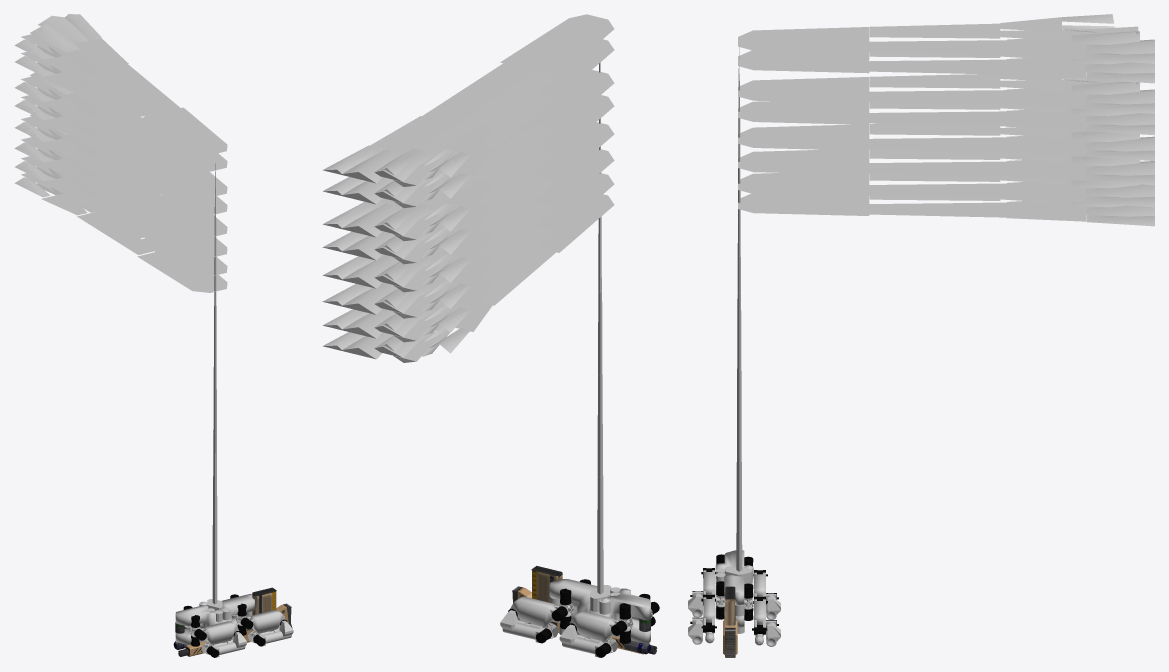
Rendered from ground_drone_mg.FBX.
3 renders of one model, left to right at view 1: azimuth 30°, elevation 25°; view 2: azimuth 150°, elevation 25°; view 3: azimuth 270°, elevation 25°, orthographic. The views are drawn at different scales.
Visible parts, largest first — view 1: center, Fract106, Fract076, Fract046, Fract031, Fract016, Fract061, Fract091, Fract1, Fract114, Fract113, Fract083 (+25 smaller); view 2: center, Fract106, Fract076, Fract114, Fract113, Fract083, Fract046, Fract031, Fract053, Fract038, Fract061, Fract016 (+49 smaller); view 3: Fract106, Fract076, Fract046, Fract031, Fract016, Fract061, Fract091, Fract1, center, Fract054, Fract069, Fract114 (+40 smaller).
Boxes of the visible parts, x1,y1,x2,y2 form: center: (173,594,254,656); Fract106: (137,107,227,155); Fract076: (137,154,227,197); Fract046: (137,195,227,237); Fract031: (137,216,227,258); Fract016: (137,235,227,276); Fract061: (137,174,227,215); Fract091: (137,131,227,171); Fract1: (137,252,227,292); Fract114: (102,64,180,112); Fract113: (77,72,155,117); Fract083: (77,115,156,159); center: (549,579,657,654); Fract106: (500,14,614,76); Fract076: (527,70,614,130); Fract114: (422,63,525,124); Fract113: (461,70,556,129); Fract083: (474,124,556,183); Fract046: (531,122,614,182); Fract031: (519,148,614,208); Fract053: (476,175,556,234); Fract038: (477,201,556,261); Fract061: (506,95,614,153); Fract016: (531,173,614,232); Fract106: (738,27,869,53); Fract076: (738,77,869,103); Fract046: (738,124,869,150); Fract031: (738,149,869,174); Fract016: (738,173,869,196); Fract061: (738,101,869,124); Fract091: (738,50,869,73); Fract1: (738,193,869,215); center: (715,550,753,633); Fract054: (869,137,1006,152); Fract069: (869,111,1006,126); Fract114: (869,40,1006,55).
Size of the model in its own units: 161 by 678 by 488.
